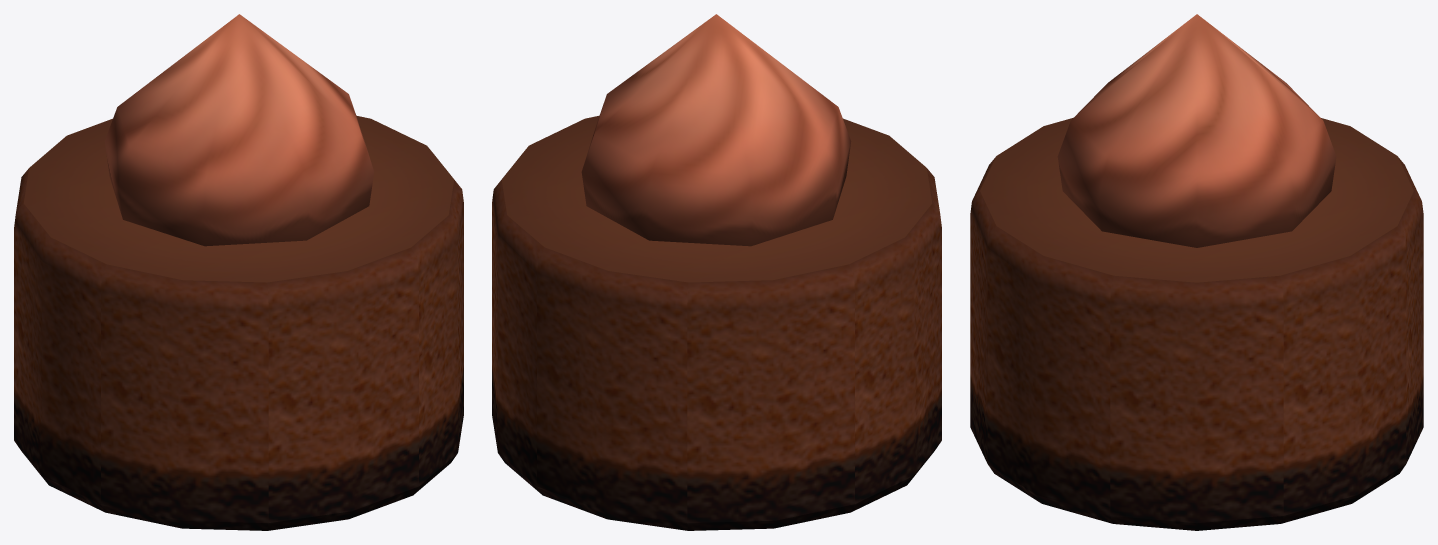
The model's file is 008-Cheesecake_04.FBX.
3 views of the same model, side by side, from view 1: azimuth 30°, elevation 25°; view 2: azimuth 150°, elevation 25°; view 3: azimuth 270°, elevation 25° (orthographic).
Visible parts, largest first — view 1: 008-Cheesecake_04; view 2: 008-Cheesecake_04; view 3: 008-Cheesecake_04.
Part boxes in pixels (x1,y1,x2,y2): 008-Cheesecake_04: (14,14,463,530); 008-Cheesecake_04: (492,14,941,530); 008-Cheesecake_04: (970,14,1423,530).
Bounding box in the file's own units: 12.38 × 12.79 × 12.38.
